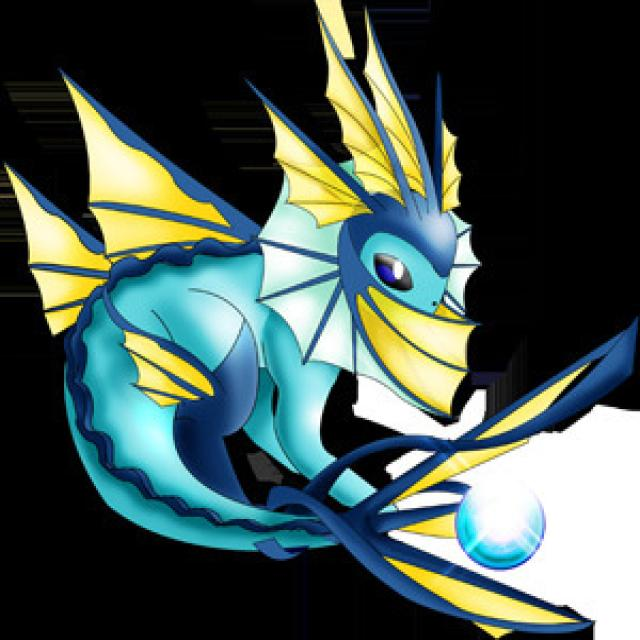Vaporeon: (57, 155, 482, 544)
